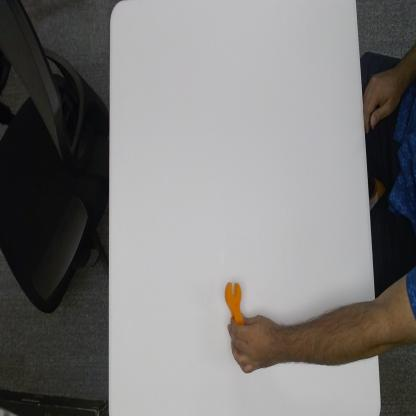Arm: (284, 286, 410, 371)
Hand: (227, 315, 282, 379)
Screwdriver: (221, 276, 246, 319)
